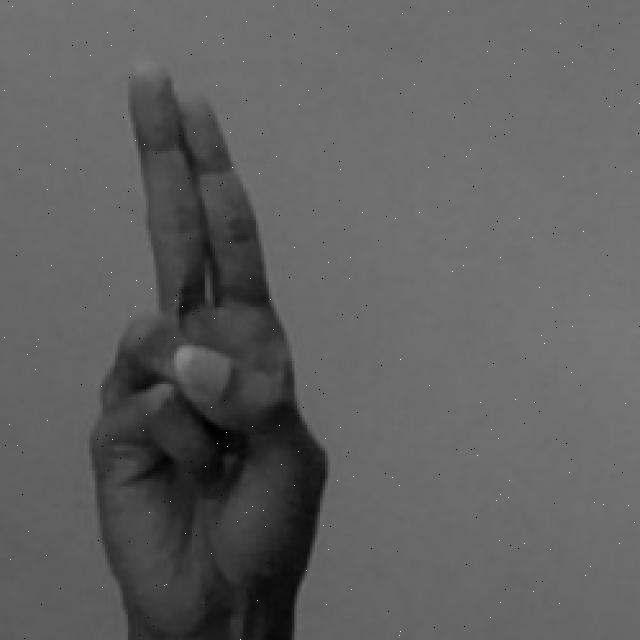U: (97, 56, 334, 640)
